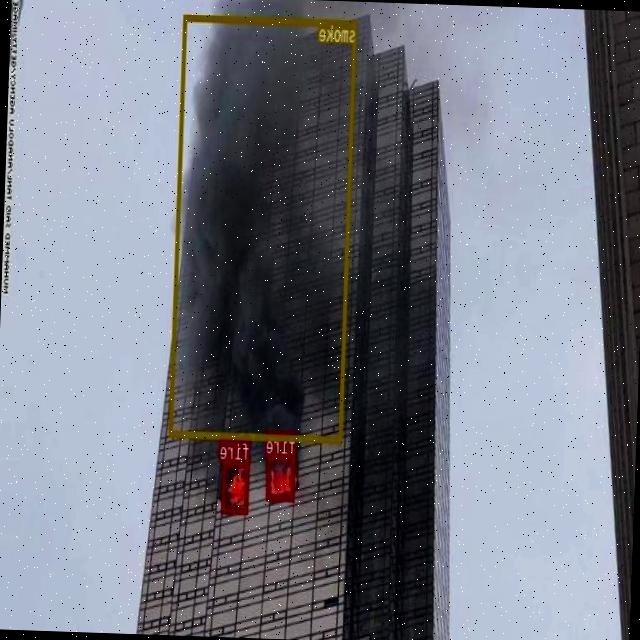fire: (222, 459, 250, 512), (266, 454, 296, 500)
smoke: (168, 14, 358, 442)
